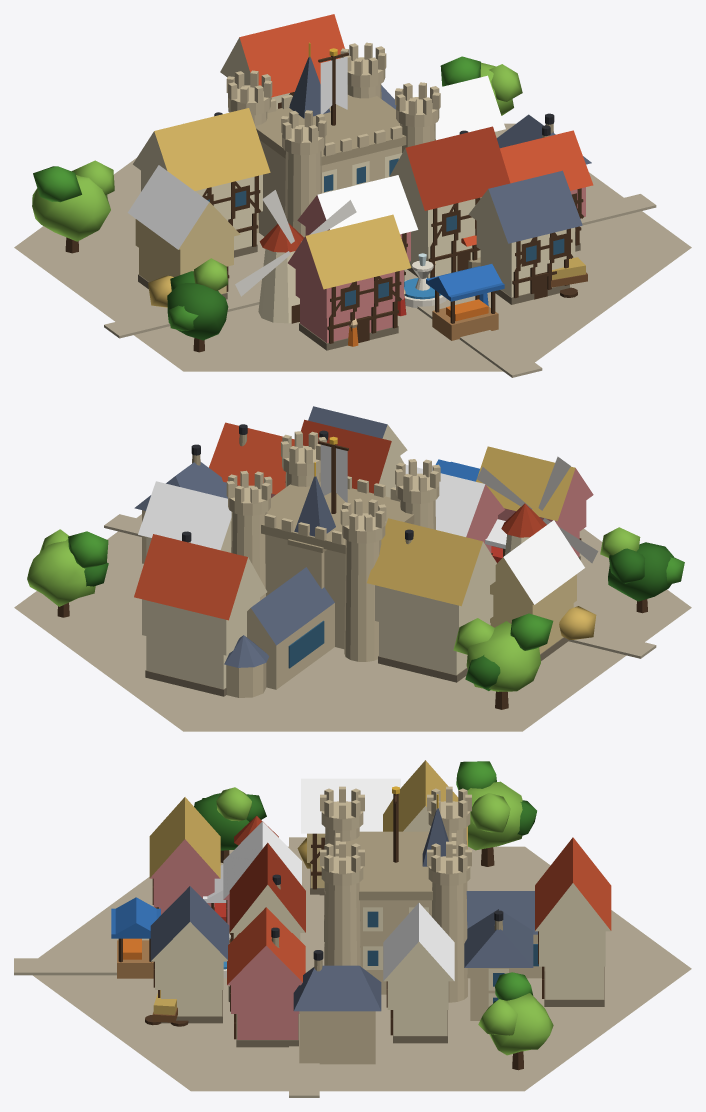
Rendered from city_1_4.fbx.
3 views of the same model, one above another, from view 1: azimuth 30°, elevation 25°; view 2: azimuth 150°, elevation 25°; view 3: azimuth 270°, elevation 25° (orthographic).
Visible parts, largest first — view 1: city_1_4; view 2: city_1_4; view 3: city_1_4.
Boxes of the visible parts, x1,y1,x2,y2 form: city_1_4: (14, 14, 691, 377); city_1_4: (14, 406, 691, 731); city_1_4: (14, 760, 691, 1097).
Bounding box in the file's own units: 192 × 62.6 × 213.
